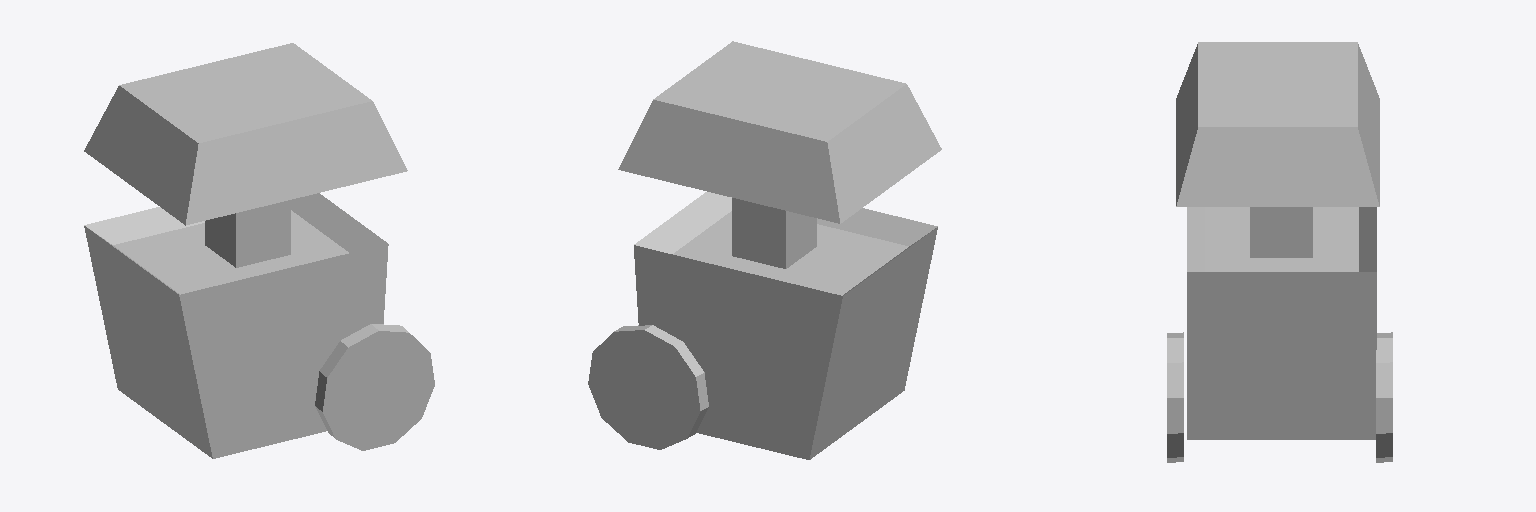
File: obstacle_4.obj
3 views of the same model, side by side, from view 1: azimuth 30°, elevation 25°; view 2: azimuth 150°, elevation 25°; view 3: azimuth 270°, elevation 25° (orthographic).
Visible parts, largest first — view 1: Cube_Cube.002; view 2: Cube_Cube.002; view 3: Cube_Cube.002.
Boxes of the visible parts, <box> form: Cube_Cube.002: <box>84,43,434,458</box>; Cube_Cube.002: <box>588,41,941,459</box>; Cube_Cube.002: <box>1167,42,1392,462</box>.
Size of the model in its own units: 1.5 by 1.93 by 1.18.